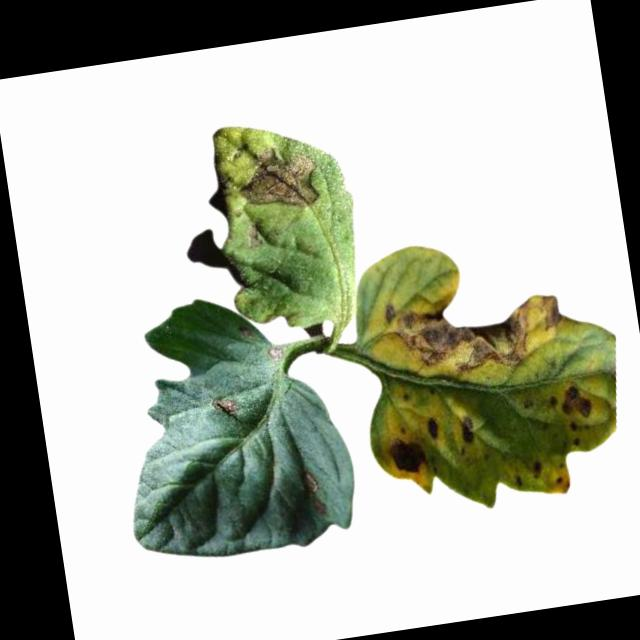Early_blight: (380, 268, 580, 389), (234, 141, 323, 220), (544, 377, 595, 427), (386, 432, 424, 481), (211, 393, 245, 419), (240, 220, 262, 256), (459, 411, 479, 444), (423, 414, 442, 443), (529, 457, 545, 483)
